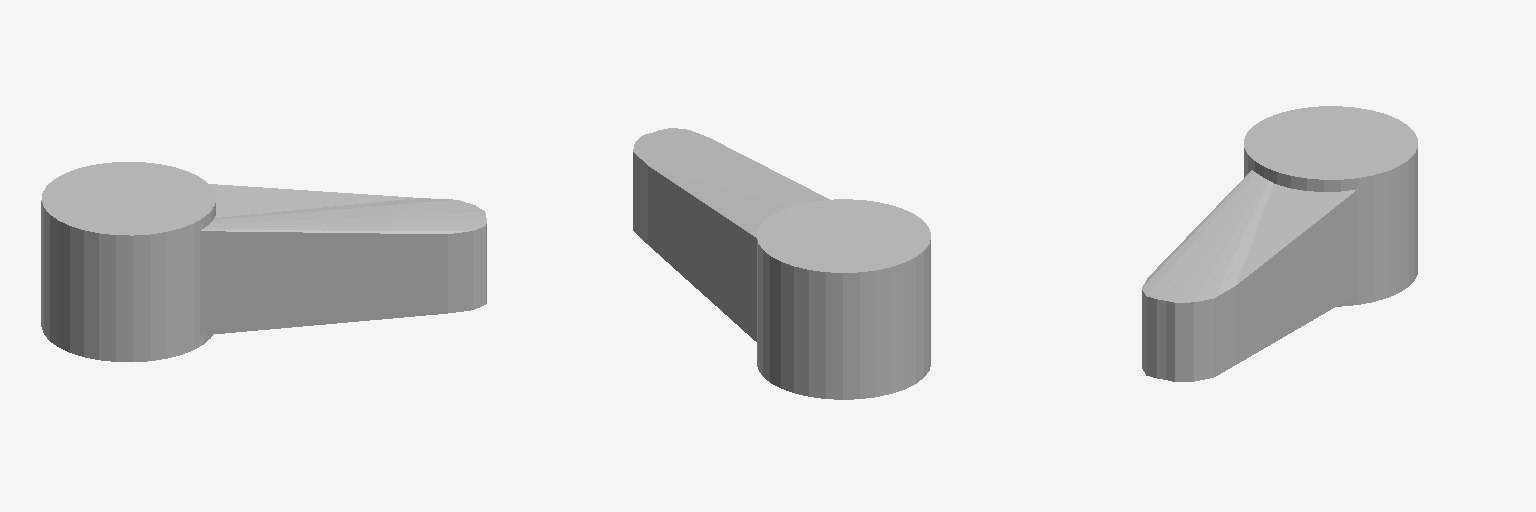
File: leftflipper.obj
3 renders of one model, left to right at view 1: azimuth 30°, elevation 25°; view 2: azimuth 150°, elevation 25°; view 3: azimuth 270°, elevation 25°, orthographic.
Visible parts, largest first — view 1: Cube.002_Cube.010; view 2: Cube.002_Cube.010; view 3: Cube.002_Cube.010.
Boxes of the visible parts, x1=… form: Cube.002_Cube.010: x1=41, y1=162, x2=486, y2=361; Cube.002_Cube.010: x1=633, y1=128, x2=930, y2=399; Cube.002_Cube.010: x1=1142, y1=106, x2=1417, y2=381.
Bounding box in the file's own units: 3.12 × 1.07 × 2.11.